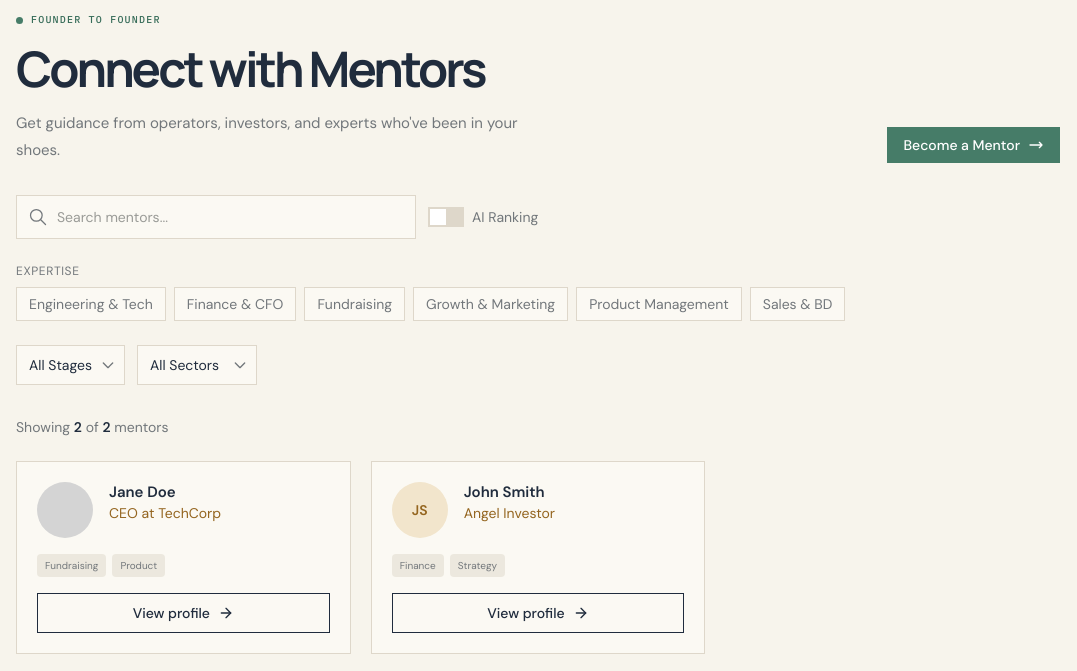
Test: MentorsPage › shows Clear all button when filters are active
Click the button "Fundraising": (355, 304) [304, 287, 405, 321]
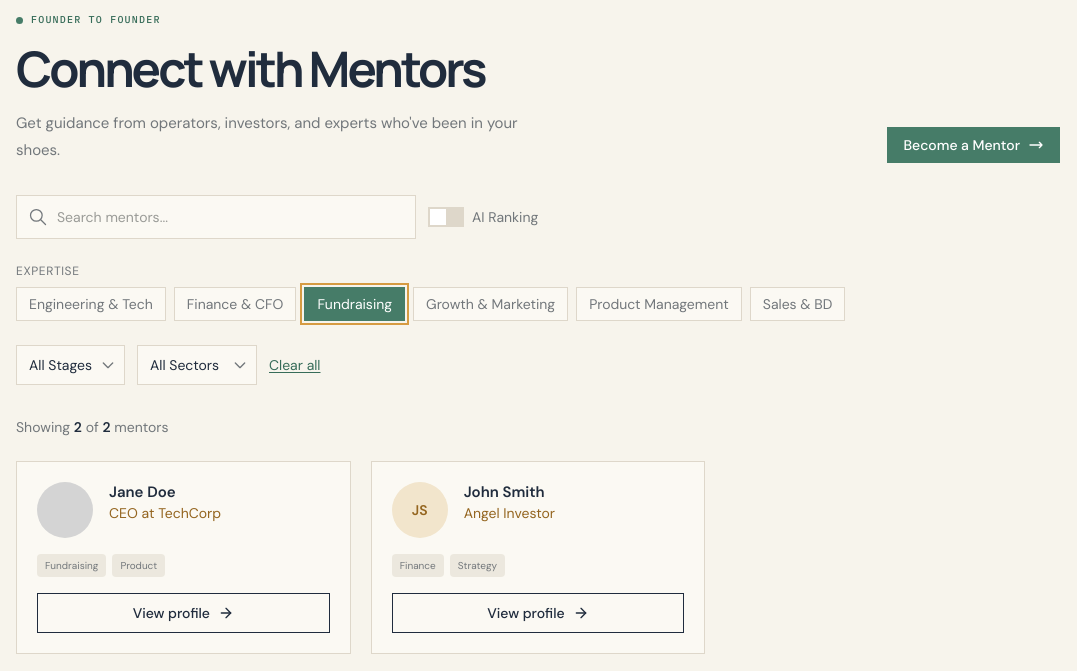
Result: the button "Clear all" is shown at [269, 355, 320, 375]
